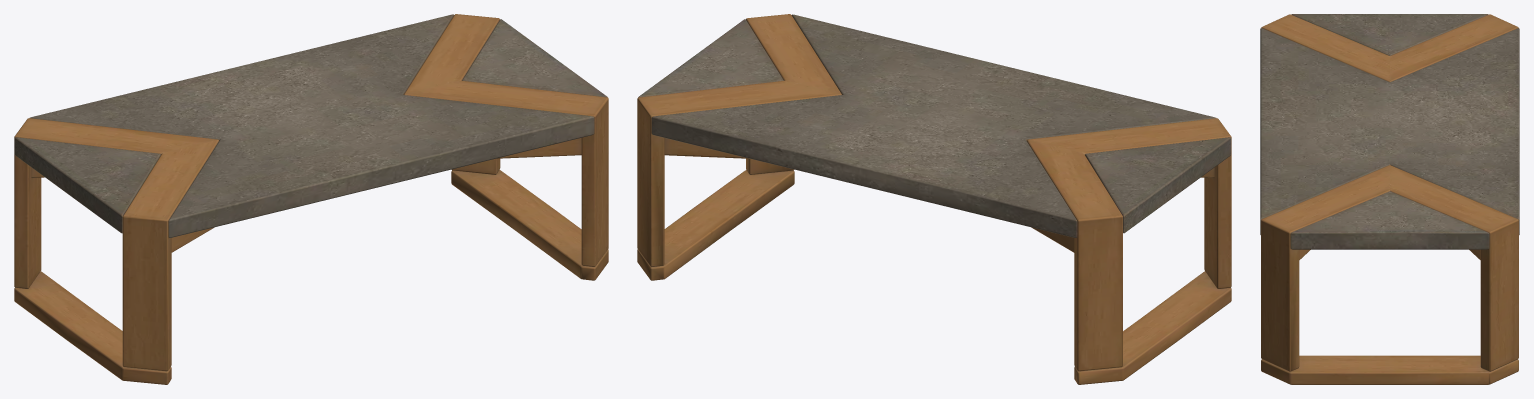
Rendered from ph-coffee-table-stone-medium.glb.
The picture shows the model from 3 angles, left to right: view 1: azimuth 30°, elevation 25°; view 2: azimuth 150°, elevation 25°; view 3: azimuth 270°, elevation 25°; orthographic projection. The views are drawn at different scales.
Parts seen in each view (by area): view 1: modern_coffee_table_01; view 2: modern_coffee_table_01; view 3: modern_coffee_table_01.
Boxes of the visible parts, left/top/right/bottom form: modern_coffee_table_01: left=14, top=14, right=608, bottom=384; modern_coffee_table_01: left=637, top=14, right=1231, bottom=384; modern_coffee_table_01: left=1260, top=14, right=1519, bottom=384.
Bounding box in the file's own units: 1.2 × 0.39 × 0.6.
1 material, 1 textured.
